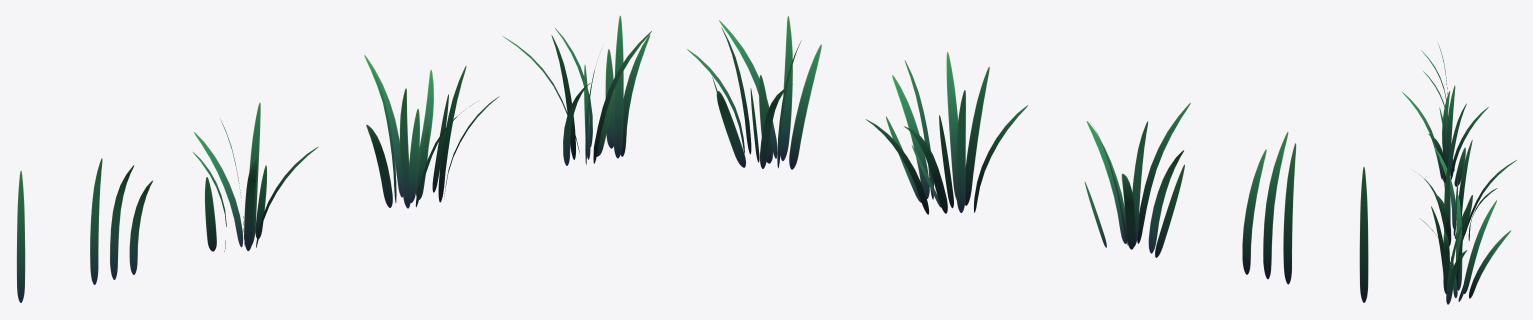
Rendered from grass.glb.
The picture shows the model from 3 angles, left to right: view 1: azimuth 30°, elevation 25°; view 2: azimuth 150°, elevation 25°; view 3: azimuth 270°, elevation 25°; orthographic projection. The views are drawn at different scales.
Parts seen in each view (by area): view 1: Grass:Grass_low9 (×2), Grass:Grass_low1 (×2), Grass:Grass_low10 (×2), Grass:Grass_Master3 (×2), Grass:Grass_Master, Grass:Grass_low3, Grass:Grass_low6, Grass:Grass_low12, Grass:Grass_low4, Grass:Grass_low7, Grass:Grass_low2, Grass:Grass_Master1 (+6 smaller); view 2: Grass:Grass_low6 (×2), Grass:Grass_low1 (×2), Grass:Grass_low2 (×2), Grass:Grass_low3 (×2), Grass:Grass_low10 (×2), Grass:Grass_low8 (×2), Grass:Grass_low13 (×2), Grass:Grass_low12 (×2), Grass:Grass_Master, Grass:Grass_low11, Grass:Grass_Master1 (×2), Grass:Grass_low9 (×2) (+4 smaller); view 3: Grass:Grass_low11 (×2), Grass:Grass_low12 (×2), Grass:Grass_low7 (×2), Grass:Grass_low13 (×2), Grass:Grass_low9 (×2), Grass:Grass_low8 (×2), Grass:Grass_Master3 (×2), Grass:Grass_low3, Grass:Grass_low5, Grass:Grass_low4, Grass:Grass_low10, Grass:Grass_low14 (+5 smaller).
Part boxes in pixels (x1,y1,x2,y2): Grass:Grass_low9 (×2): (438, 15, 623, 202); Grass:Grass_low1 (×2): (110, 158, 257, 279); Grass:Grass_low10 (×2): (366, 82, 590, 207); Grass:Grass_Master3 (×2): (432, 49, 614, 192); Grass:Grass_Master: (17, 170, 25, 302); Grass:Grass_low3: (90, 158, 102, 284); Grass:Grass_low6: (400, 88, 410, 208); Grass:Grass_low12: (364, 55, 402, 197); Grass:Grass_low4: (194, 132, 242, 247); Grass:Grass_low7: (620, 35, 650, 156); Grass:Grass_low2: (129, 180, 152, 274); Grass:Grass_Master1: (409, 109, 419, 202); Grass:Grass_low6 (×2): (780, 16, 989, 205); Grass:Grass_low1 (×2): (1137, 102, 1288, 279); Grass:Grass_low2 (×2): (1086, 121, 1266, 274); Grass:Grass_low3 (×2): (1132, 121, 1296, 284); Grass:Grass_low10 (×2): (789, 44, 1027, 212); Grass:Grass_low8 (×2): (719, 20, 958, 199); Grass:Grass_low13 (×2): (716, 91, 928, 214); Grass:Grass_low12 (×2): (760, 84, 947, 213); Grass:Grass_Master: (1359, 167, 1368, 302); Grass:Grass_low11: (956, 90, 965, 212); Grass:Grass_Master1 (×2): (759, 75, 953, 208); Grass:Grass_low9 (×2): (721, 27, 933, 199); Grass:Grass_low11 (×2): (1456, 140, 1472, 290); Grass:Grass_low12 (×2): (1464, 160, 1516, 293); Grass:Grass_low7 (×2): (1434, 193, 1467, 304); Grass:Grass_low13 (×2): (1468, 188, 1511, 298); Grass:Grass_low9 (×2): (1444, 166, 1464, 292); Grass:Grass_low8 (×2): (1413, 170, 1449, 293); Grass:Grass_Master3 (×2): (1458, 195, 1478, 301); Grass:Grass_low3: (1445, 85, 1455, 168); Grass:Grass_low5: (1447, 103, 1466, 175); Grass:Grass_low4: (1450, 107, 1488, 179); Grass:Grass_low10: (1434, 147, 1455, 228); Grass:Grass_low14: (1442, 91, 1449, 158).
Size of the model in its own units: 68.14 by 13.82 by 16.05.
1 material, 1 textured.
